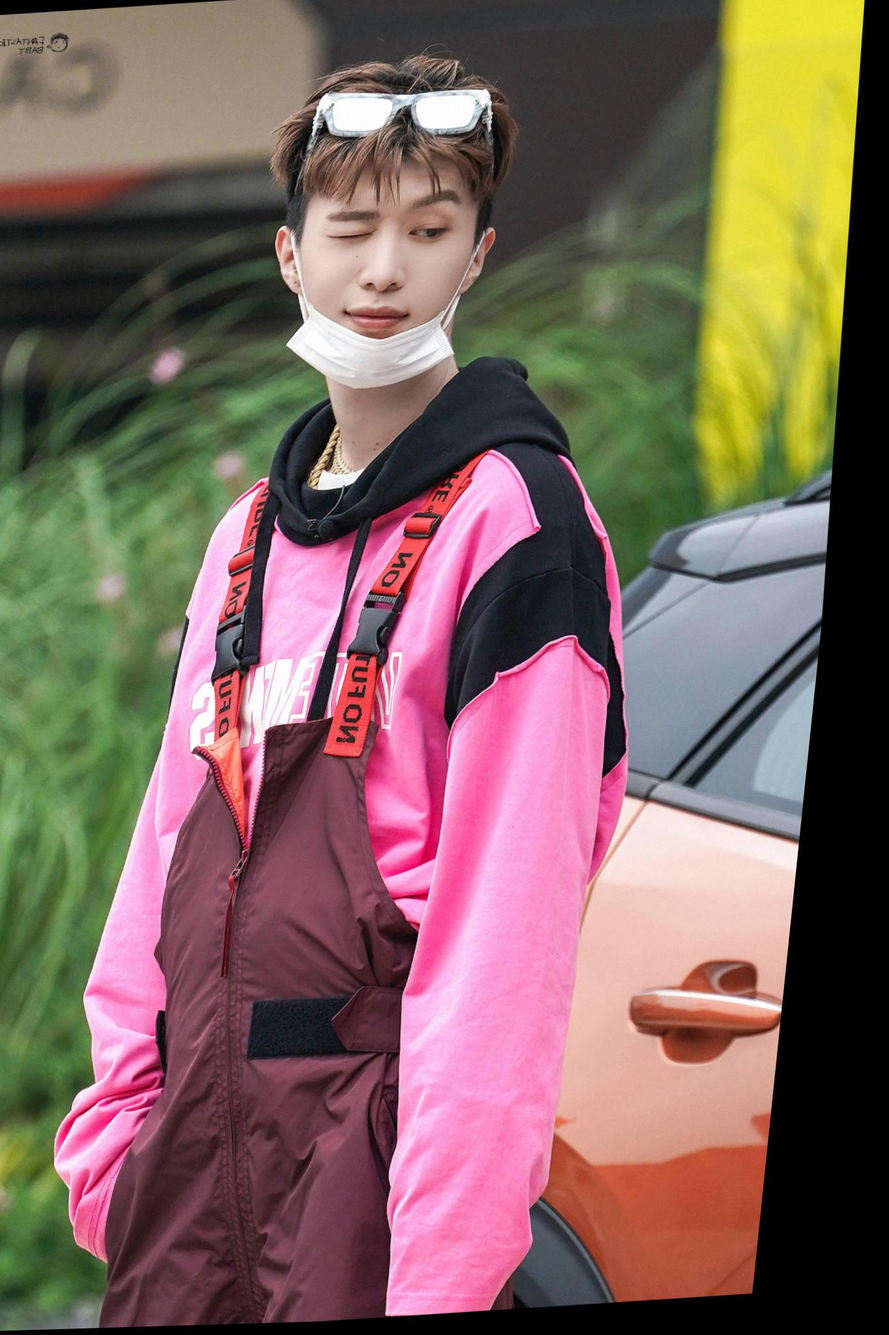WRONG: (294, 169, 490, 389)
